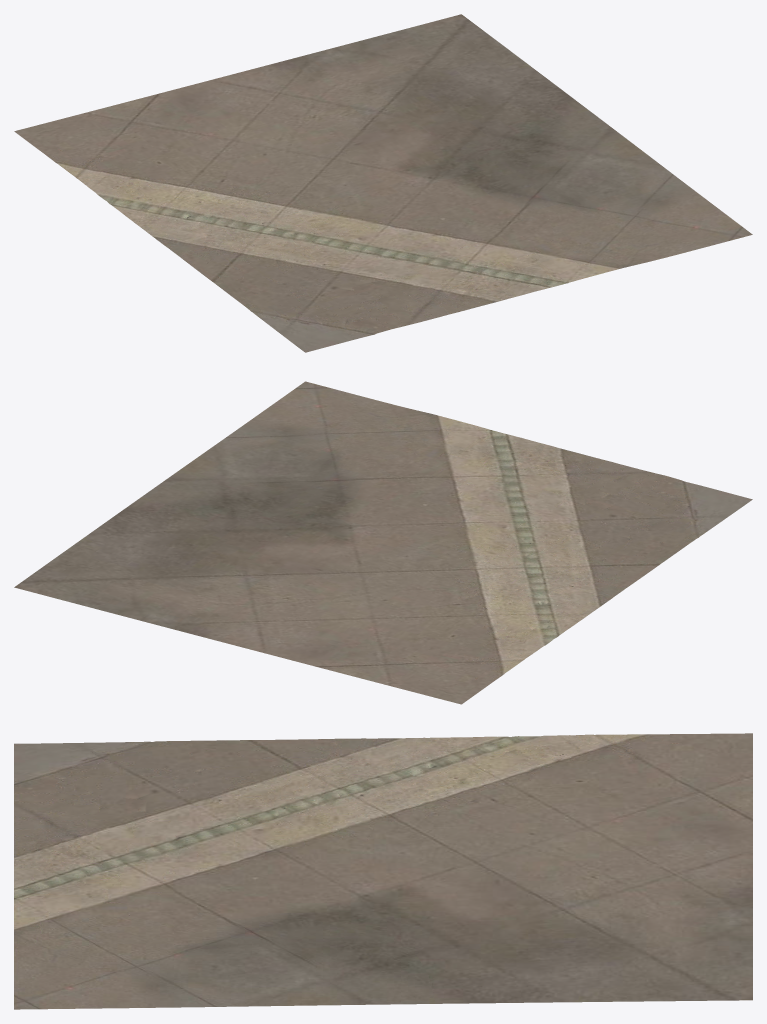
The picture shows the model from 3 angles, top to bottom: view 1: azimuth 30°, elevation 25°; view 2: azimuth 150°, elevation 25°; view 3: azimuth 270°, elevation 25°; orthographic projection. The views are drawn at different scales.
Size of the model in its own units: 6.82 by 0.2348 by 7.7.
Materials: 1 (1 with a texture image).
